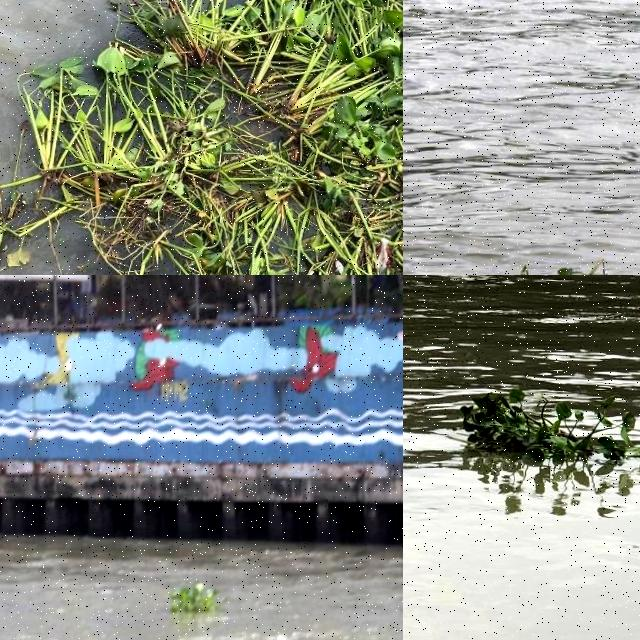water-hyacinth: (1, 1, 404, 276), (457, 373, 640, 475), (458, 256, 640, 276), (164, 578, 223, 618), (71, 1, 128, 27)
